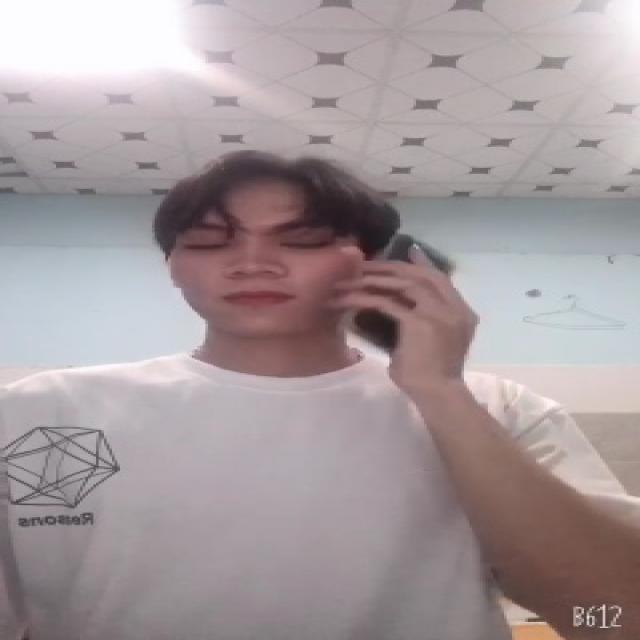Phone: (342, 234, 462, 354)
